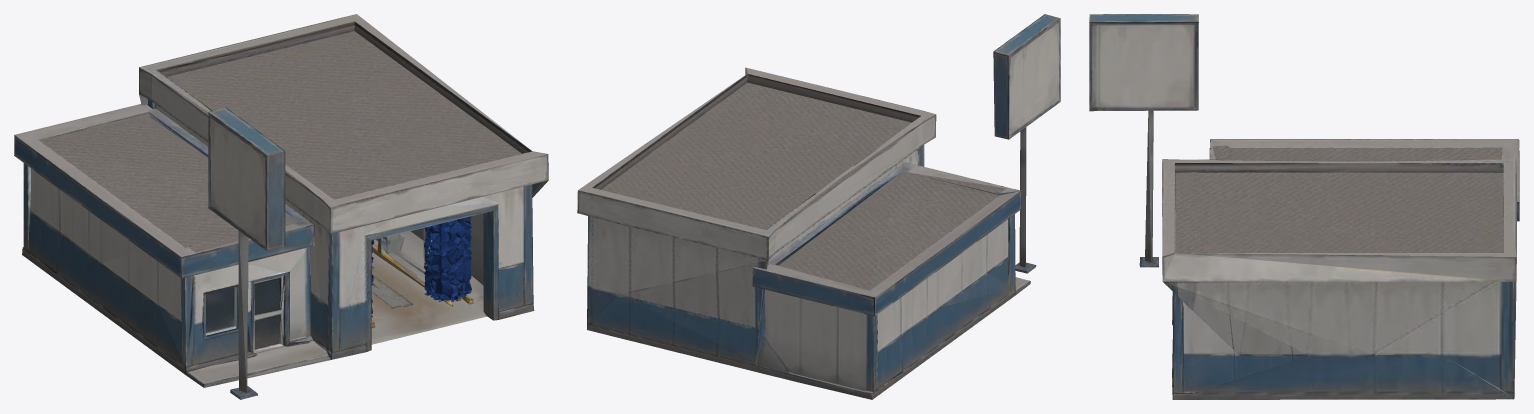
Rendered from carwash.glb.
3 renders of one model, left to right at view 1: azimuth 30°, elevation 25°; view 2: azimuth 150°, elevation 25°; view 3: azimuth 270°, elevation 25°, orthographic. The views are drawn at different scales.
Parts seen in each view (by area): view 1: placed; view 2: placed; view 3: placed.
Boxes of the visible parts, x1,y1,x2,y2 form: placed: (14,14,548,399); placed: (577,14,1060,399); placed: (1089,14,1519,399).
Bounding box in the file's own units: 15.28 × 11.32 × 18.
1 material, 1 textured.
